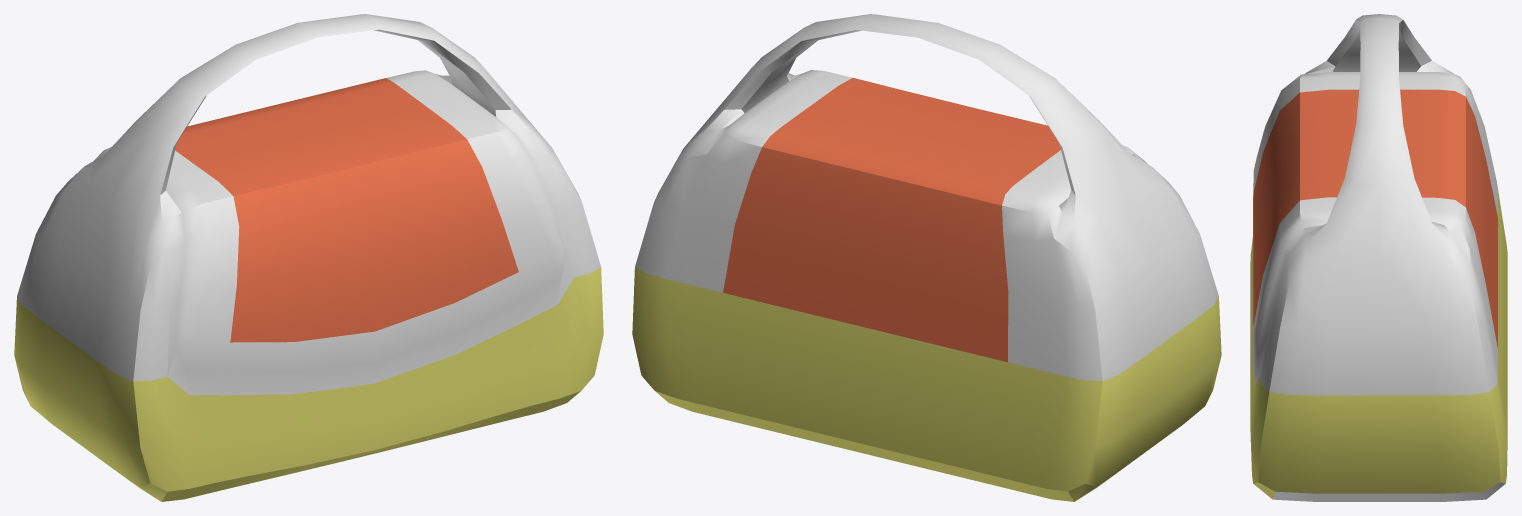
Rendered from 1_symlka.fbx.
3 views of the same model, side by side, from view 1: azimuth 30°, elevation 25°; view 2: azimuth 150°, elevation 25°; view 3: azimuth 270°, elevation 25° (orthographic). The views are drawn at different scales.
Parts seen in each view (by area): view 1: Cube.055; view 2: Cube.055; view 3: Cube.055.
Boxes of the visible parts, box(x1,y1,x2,y2) form: Cube.055: box(14, 14, 603, 501); Cube.055: box(632, 14, 1221, 501); Cube.055: box(1250, 14, 1507, 501).
Size of the model in its own units: 12.51 by 9.66 by 6.12.
